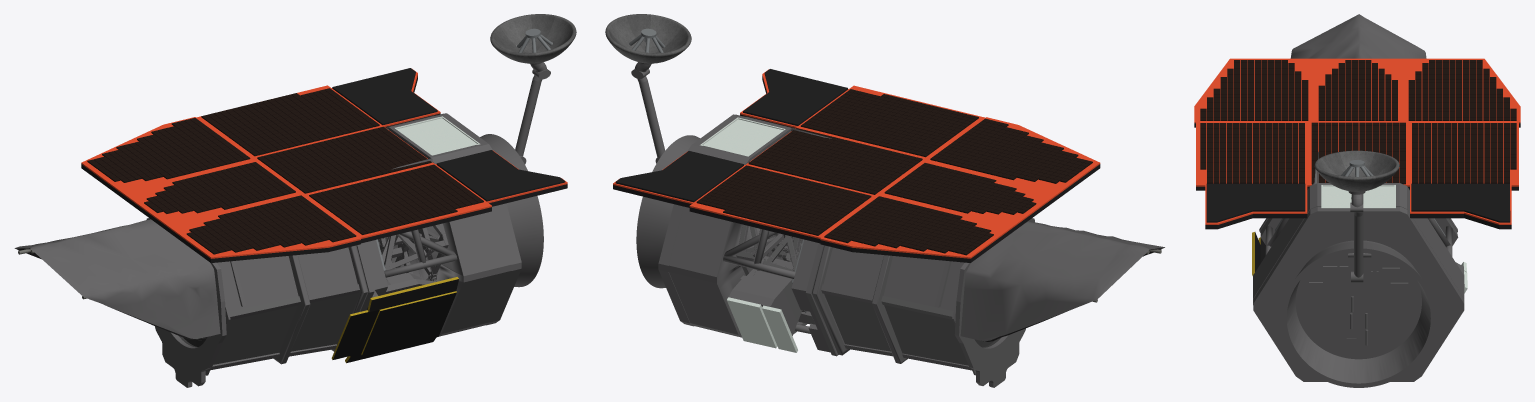
The model's file is RST_v4.glb.
3 views of the same model, side by side, from view 1: azimuth 30°, elevation 25°; view 2: azimuth 150°, elevation 25°; view 3: azimuth 270°, elevation 25° (orthographic).
Visible parts, largest first — view 1: Empty_Mesh.2507, handmade3, Empty_Mesh.3991, Empty_Mesh.2787, Empty_Mesh.003, Empty_Mesh.2785, Empty_Mesh.5368, Empty_Mesh, Empty_Mesh.3034, Empty_Mesh.4727, Empty_Mesh.3211, Cube (+6 smaller); view 2: Empty_Mesh.2507, handmade3, Empty_Mesh.3991, Empty_Mesh.2787, Empty_Mesh.003, Empty_Mesh.2785, Empty_Mesh, Empty_Mesh.3034, Empty_Mesh.4727, Empty_Mesh.5423, Empty_Mesh.5424, Empty_Mesh.3211 (+8 smaller); view 3: Empty_Mesh.2507, Empty_Mesh, Empty_Mesh.003, Empty_Mesh.2787, Empty_Mesh.2785, handmade3, Empty_Mesh.3034, Cube, Empty_Mesh.3184, Empty_Mesh.013, Empty_Mesh.006, Empty_Mesh.5368 (+1 smaller).
Part boxes in pixels (<box>): Empty_Mesh.2507: <box>87,88,483,254</box>; handmade3: <box>14,219,220,338</box>; Empty_Mesh.3991: <box>213,247,357,364</box>; Empty_Mesh.2787: <box>81,69,567,262</box>; Empty_Mesh.003: <box>378,113,521,336</box>; Empty_Mesh.2785: <box>332,68,565,201</box>; Empty_Mesh.5368: <box>331,277,458,363</box>; Empty_Mesh: <box>480,134,543,287</box>; Empty_Mesh.3034: <box>490,14,576,63</box>; Empty_Mesh.4727: <box>146,218,226,387</box>; Empty_Mesh.3211: <box>210,261,359,370</box>; Cube: <box>395,116,479,155</box>; Empty_Mesh.2507: <box>696,89,1092,255</box>; handmade3: <box>960,221,1164,341</box>; Empty_Mesh.3991: <box>823,247,968,365</box>; Empty_Mesh.2787: <box>613,69,1100,262</box>; Empty_Mesh.003: <box>658,114,794,337</box>; Empty_Mesh.2785: <box>615,69,847,202</box>; Empty_Mesh: <box>636,135,699,288</box>; Empty_Mesh.3034: <box>605,14,691,63</box>; Empty_Mesh.4727: <box>954,218,1034,387</box>; Empty_Mesh.5423: <box>728,256,801,335</box>; Empty_Mesh.5424: <box>727,297,797,352</box>; Empty_Mesh.3211: <box>821,261,972,370</box>; Empty_Mesh.2507: <box>1200,60,1516,184</box>; Empty_Mesh: <box>1281,240,1435,387</box>; Empty_Mesh.003: <box>1253,183,1464,381</box>; Empty_Mesh.2787: <box>1194,58,1520,229</box>; Empty_Mesh.2785: <box>1206,183,1510,222</box>; handmade3: <box>1290,14,1426,58</box>; Empty_Mesh.3034: <box>1314,150,1399,191</box>; Cube: <box>1321,185,1395,208</box>; Empty_Mesh.3184: <box>1348,191,1365,282</box>; Empty_Mesh.013: <box>1265,152,1452,256</box>; Empty_Mesh.006: <box>1260,218,1458,245</box>; Empty_Mesh.5368: <box>1252,232,1265,275</box>.
Bounding box in the file's own units: 344 × 164 × 184.
15 materials, 2 textured.
